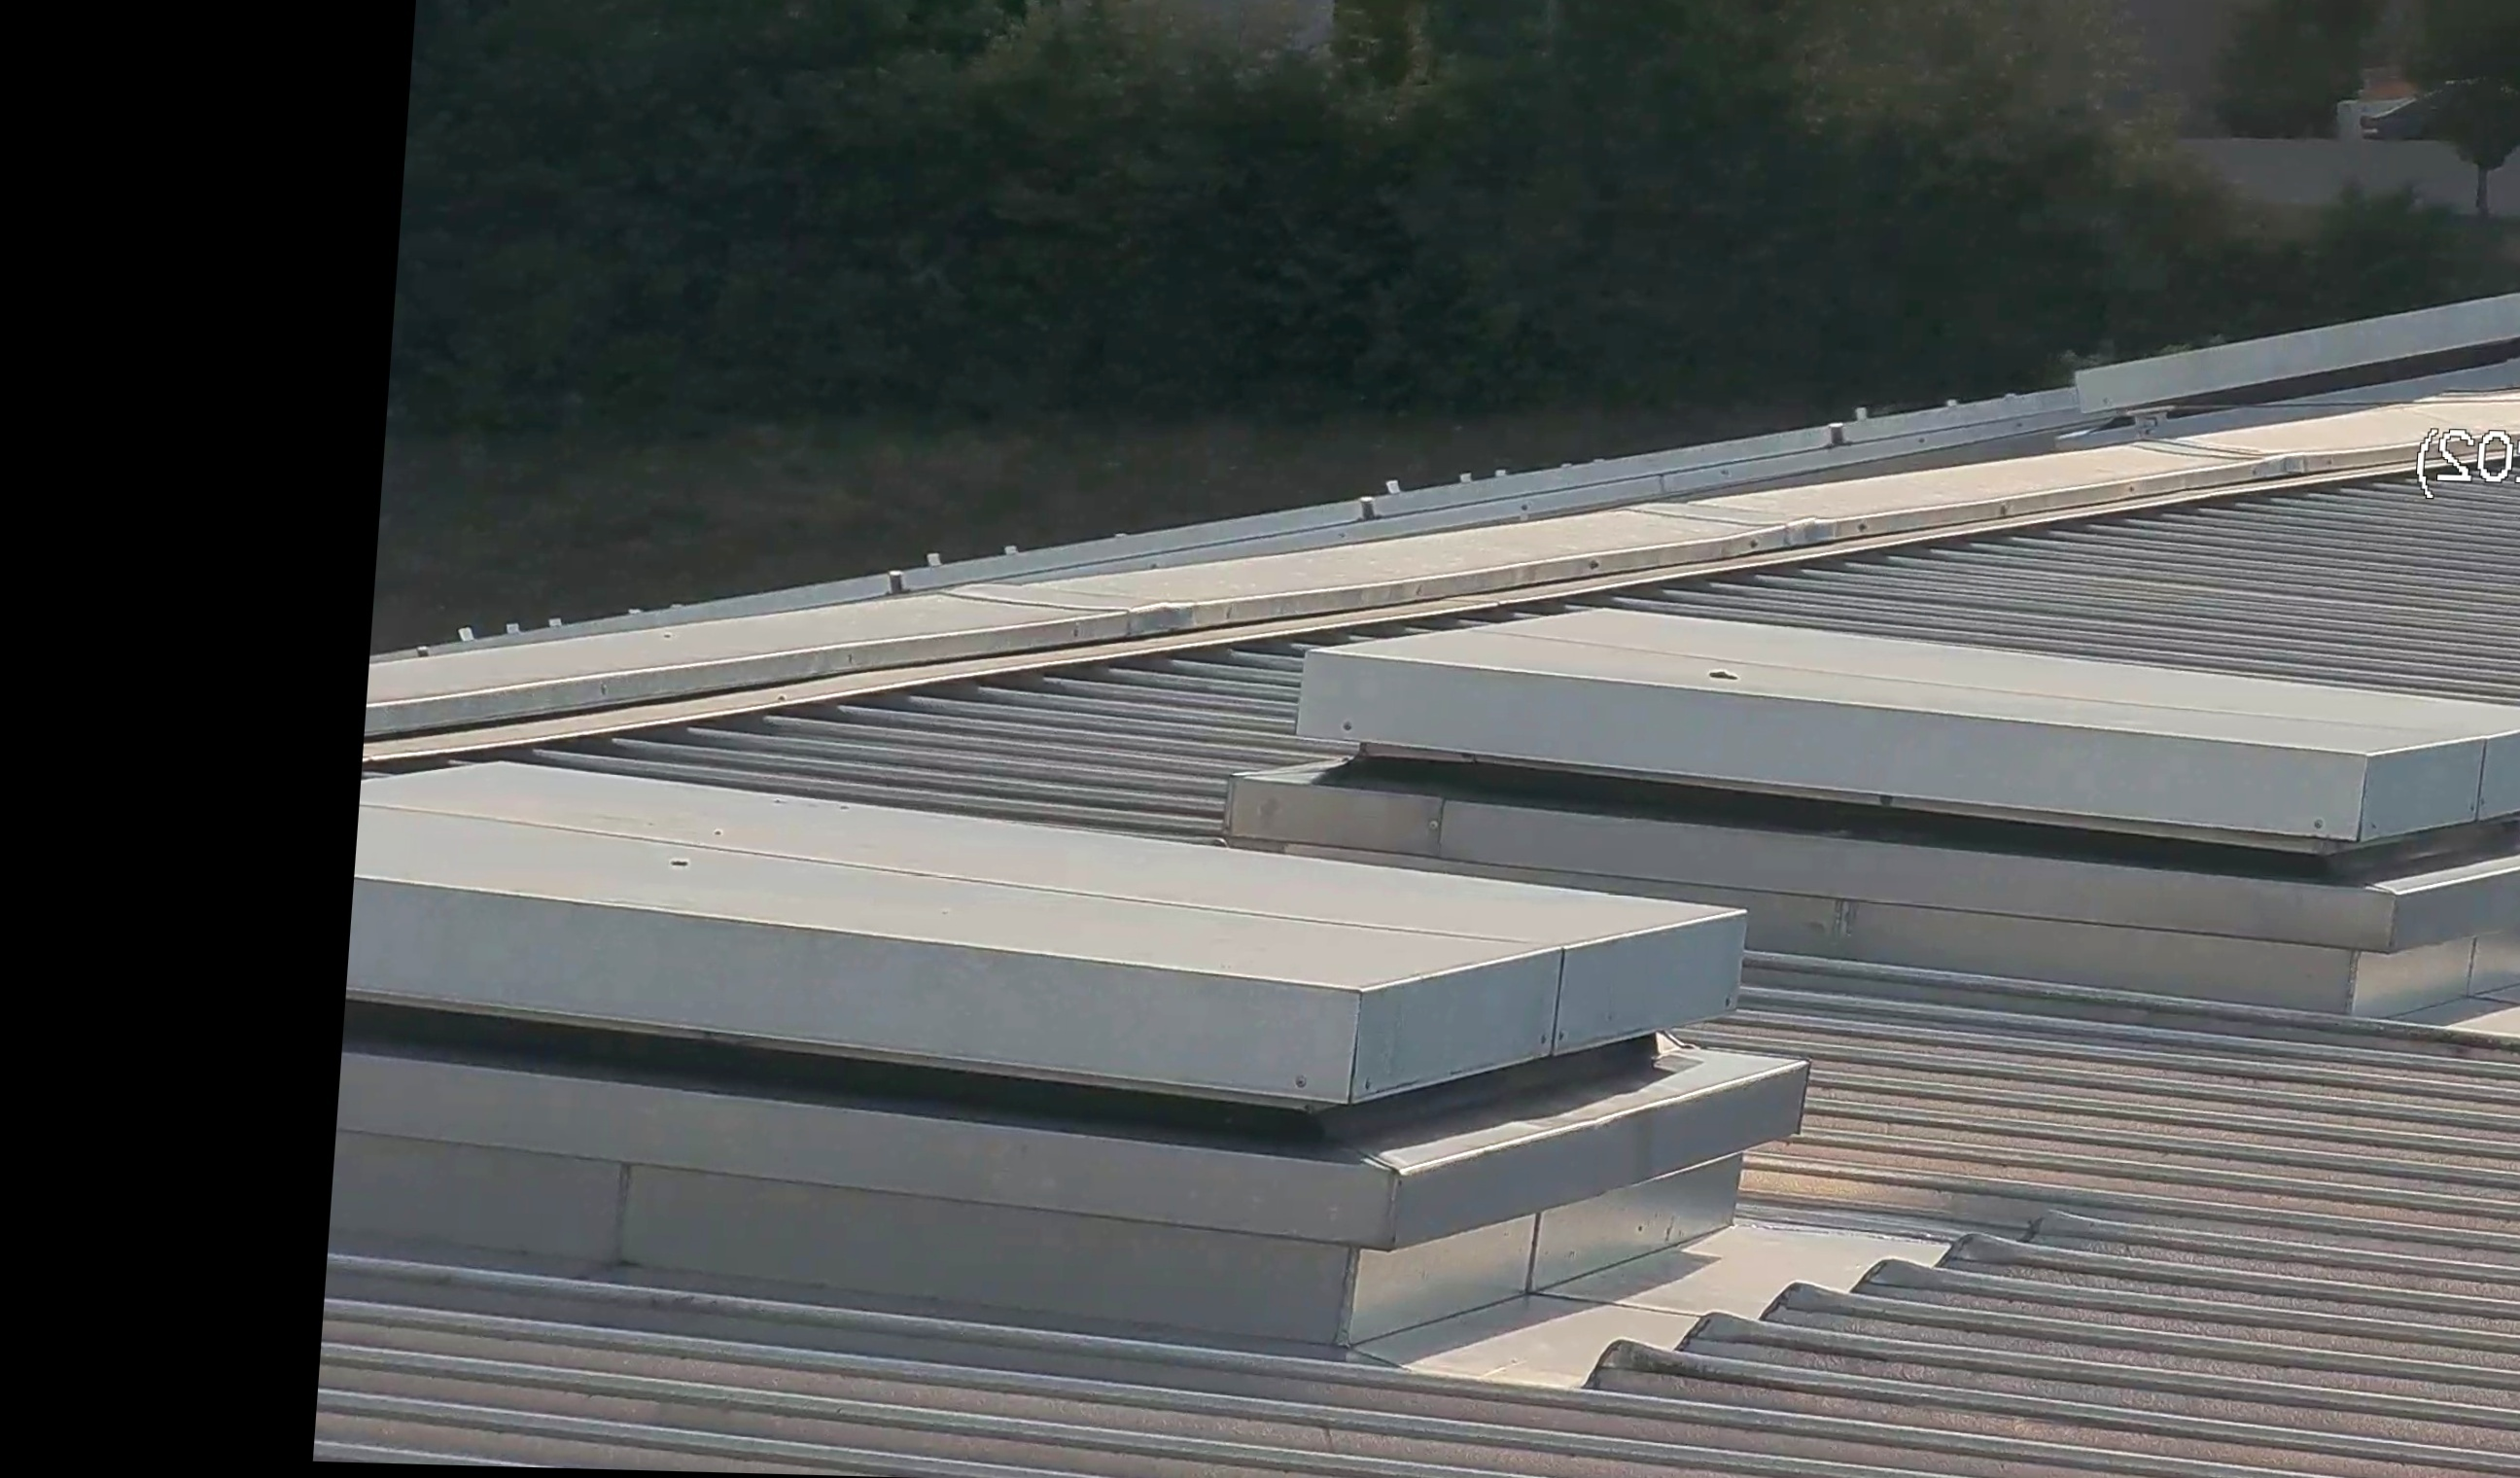Other: (2332, 33, 2520, 206)
